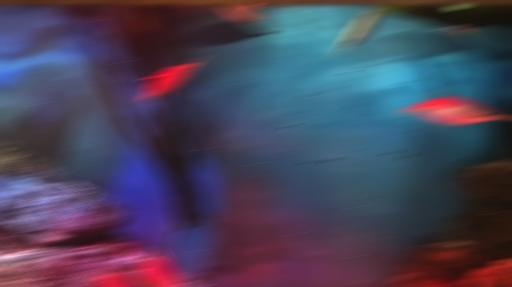Fish: (400, 93, 511, 125), (138, 58, 205, 106), (331, 9, 380, 57), (216, 2, 275, 28), (136, 250, 172, 286), (447, 24, 478, 43), (133, 5, 152, 33), (91, 267, 117, 286), (426, 285, 437, 286), (427, 285, 438, 286)
